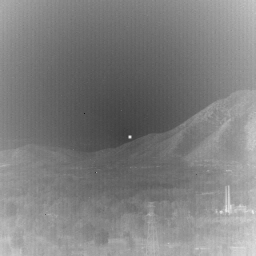Target: (126, 133, 133, 141)
